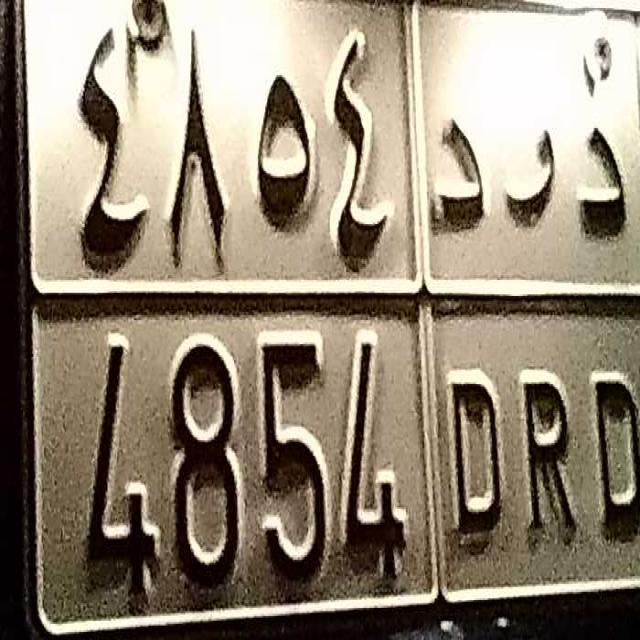license_plate: (28, 288, 640, 612)
